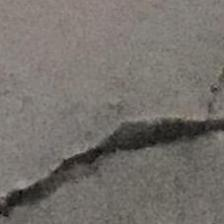Crack: (4, 89, 224, 222)
